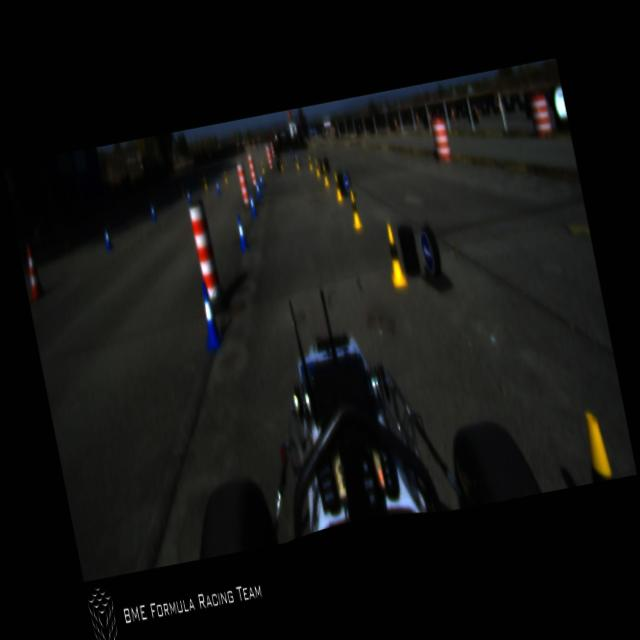blue_cone: (194, 279, 226, 354), (233, 214, 250, 254), (101, 224, 113, 252), (248, 192, 258, 217), (148, 200, 158, 222), (254, 180, 262, 202), (258, 172, 265, 190), (185, 188, 192, 206), (214, 178, 221, 195)
large_orange_cone: (20, 243, 46, 303)
yellow_cone: (580, 408, 614, 483), (381, 224, 408, 290), (347, 190, 362, 230), (332, 172, 344, 204), (60, 226, 72, 251), (321, 164, 330, 188), (314, 158, 322, 178), (278, 156, 284, 172), (294, 155, 300, 171), (308, 155, 314, 171), (202, 176, 208, 192), (222, 169, 228, 185), (180, 184, 186, 198), (260, 158, 265, 174)
